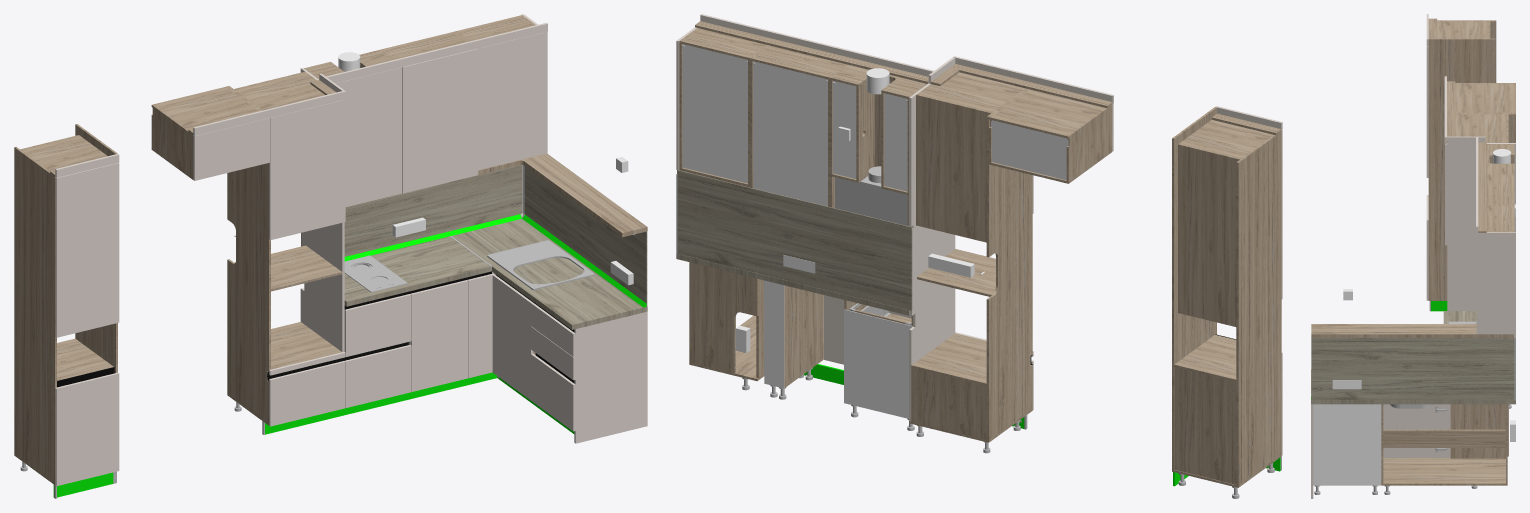
3 views of the same model, side by side, from view 1: azimuth 30°, elevation 25°; view 2: azimuth 150°, elevation 25°; view 3: azimuth 270°, elevation 25° (orthographic). The views are drawn at different scales.
Visible parts, largest first — view 1: node_0131, node_0136, node_0071, node_0093, node_0076, node_0018, node_0038, node_0116, node_0021, node_0094, node_0137, node_0019 (+32 smaller); view 2: node_0018, node_0131, node_0071, node_0128, node_0088, node_0068, node_0110, node_0129, node_0056, node_0028, node_0070, node_0069 (+26 smaller); view 3: node_0019, node_0130, node_0037, node_0070, node_0117, node_0026, node_0029, node_0022, node_0112, node_0030, node_0083, node_0073 (+19 smaller).
Part boxes in pixels (x1=…): node_0131: x1=14, y1=147, x2=56, y2=482; node_0136: x1=55, y1=163, x2=119, y2=337; node_0071: x1=227, y1=86, x2=270, y2=423; node_0093: x1=402, y1=48, x2=478, y2=193; node_0076: x1=269, y1=99, x2=345, y2=240; node_0018: x1=301, y1=165, x2=522, y2=256; node_0038: x1=574, y1=311, x2=647, y2=443; node_0116: x1=478, y1=32, x2=545, y2=169; node_0021: x1=451, y1=219, x2=647, y2=329; node_0094: x1=335, y1=67, x2=402, y2=206; node_0137: x1=55, y1=372, x2=119, y2=486; node_0019: x1=524, y1=166, x2=647, y2=306; node_0018: x1=677, y1=170, x2=912, y2=310; node_0131: x1=1236, y1=131, x2=1281, y2=485; node_0071: x1=986, y1=88, x2=1032, y2=440; node_0128: x1=1178, y1=143, x2=1240, y2=326; node_0088: x1=753, y1=61, x2=827, y2=206; node_0068: x1=916, y1=94, x2=991, y2=242; node_0110: x1=682, y1=44, x2=747, y2=183; node_0129: x1=1174, y1=367, x2=1236, y2=484; node_0056: x1=844, y1=309, x2=912, y2=418; node_0028: x1=689, y1=262, x2=758, y2=373; node_0070: x1=909, y1=83, x2=955, y2=421; node_0069: x1=911, y1=367, x2=986, y2=439; node_0019: x1=1311, y1=338, x2=1514, y2=399; node_0130: x1=1428, y1=38, x2=1496, y2=300; node_0037: x1=1313, y1=404, x2=1381, y2=485; node_0070: x1=1447, y1=143, x2=1515, y2=310; node_0117: x1=1476, y1=232, x2=1515, y2=334; node_0026: x1=1381, y1=458, x2=1507, y2=485; node_0029: x1=1383, y1=429, x2=1505, y2=447; node_0022: x1=1450, y1=404, x2=1505, y2=458; node_0112: x1=1311, y1=323, x2=1514, y2=335; node_0030: x1=1383, y1=404, x2=1440, y2=457; node_0083: x1=1455, y1=83, x2=1515, y2=112; node_0073: x1=1455, y1=114, x2=1506, y2=142.
Bounding box in the file's own units: 4.13 × 2.52 × 1.7.
Materials: 19 (5 with a texture image).
